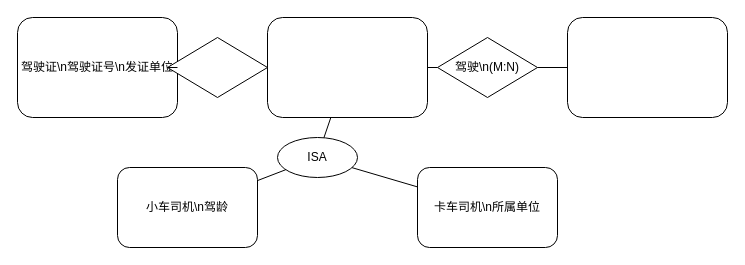
The diagram is 745 pixels wide and 265 high, and some of its shapes have lost their labels. Here are the shapes that lost their labels. From the top down, the centre of each, then its label:
(217,67): 拥有\n(1:N)
(347,67): 驾驶员\n身份证号\n姓名\n地址\n电话
(647,67): 车辆\n车辆号码\n名称\n型号
